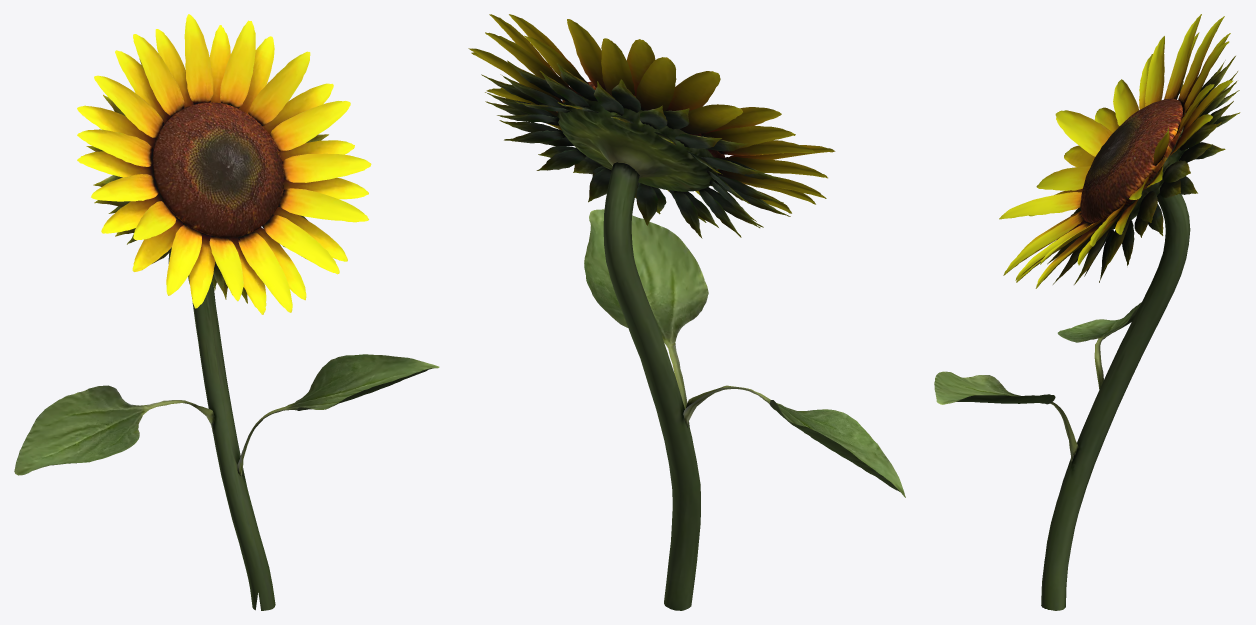
Rendered from sunflower.glb.
3 views of the same model, side by side, from view 1: azimuth 30°, elevation 25°; view 2: azimuth 150°, elevation 25°; view 3: azimuth 270°, elevation 25° (orthographic). The views are drawn at different scales.
Visible parts, largest first — view 1: 10455_Sunflower_v1_SG; view 2: 10455_Sunflower_v1_SG; view 3: 10455_Sunflower_v1_SG.
Boxes of the visible parts, bbox=[...] form: 10455_Sunflower_v1_SG: bbox=[14, 14, 439, 610]; 10455_Sunflower_v1_SG: bbox=[468, 14, 905, 610]; 10455_Sunflower_v1_SG: bbox=[934, 14, 1240, 610].
Bounding box in the file's own units: 29.84 × 44.26 × 21.61.
1 material, 1 textured.
